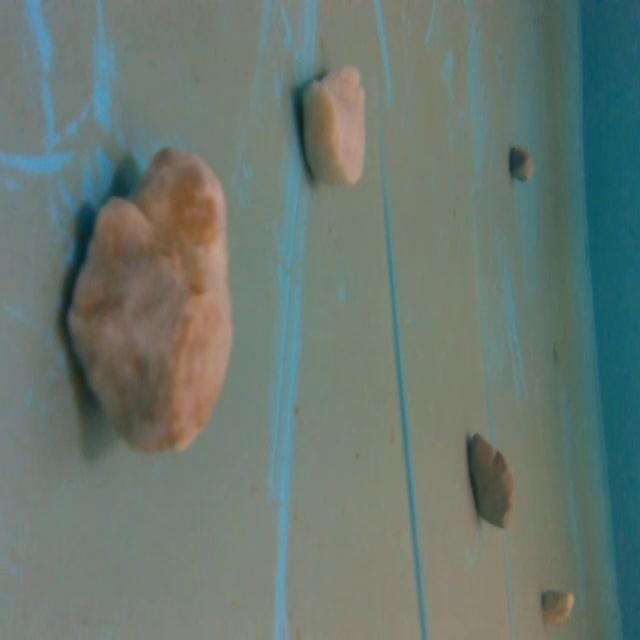rock: (56, 142, 245, 462), (295, 56, 373, 196), (462, 422, 520, 532), (539, 584, 578, 628), (505, 142, 537, 190)
